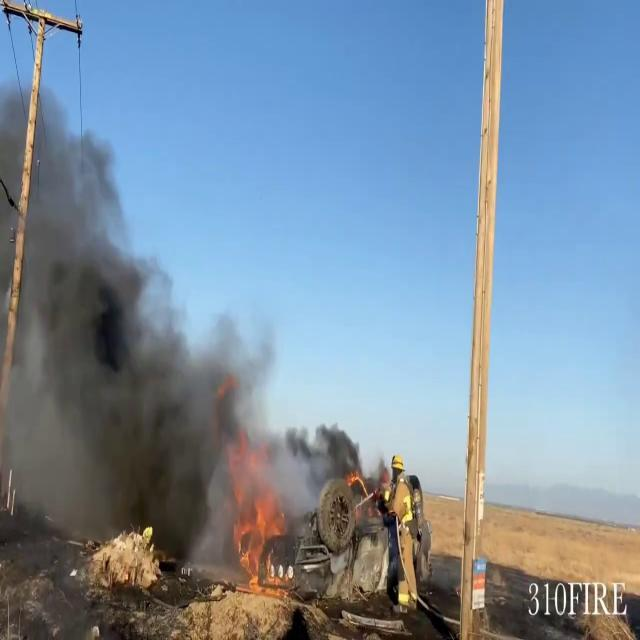Fire: (214, 443, 294, 599)
Smoke: (0, 28, 241, 556)
